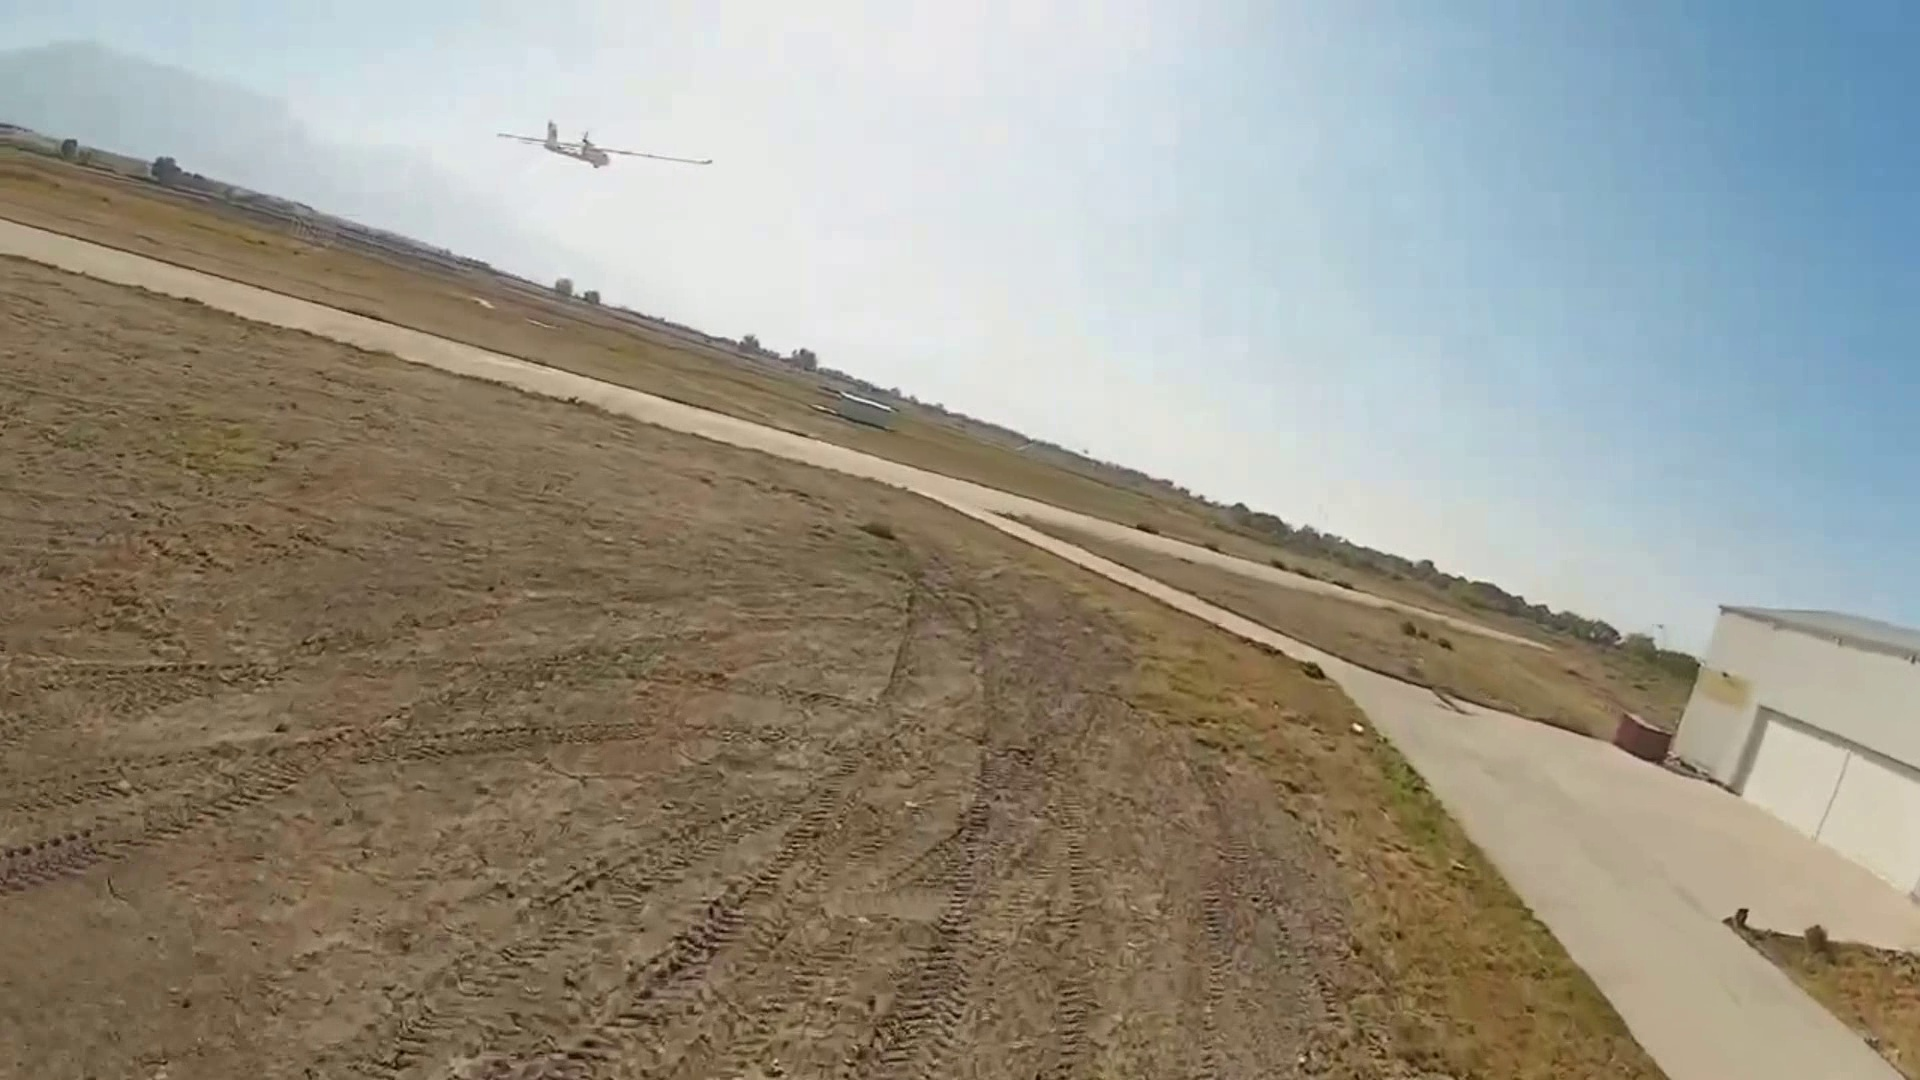airplane: (495, 119, 716, 174)
